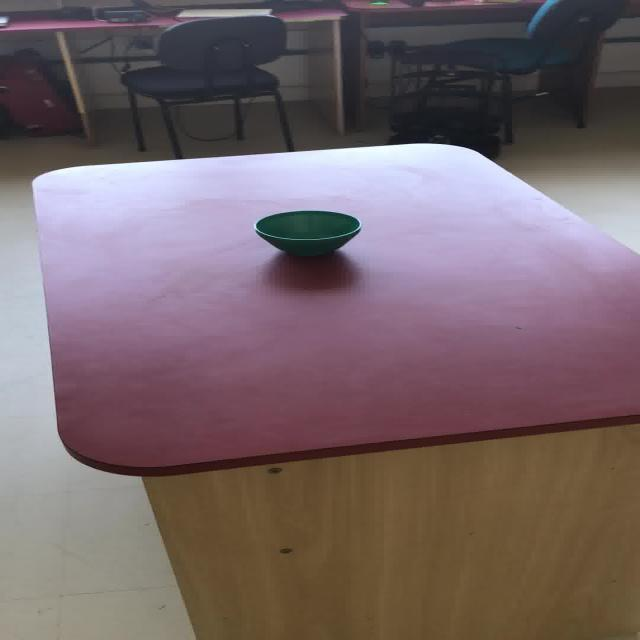bowl: (252, 209, 361, 256)
